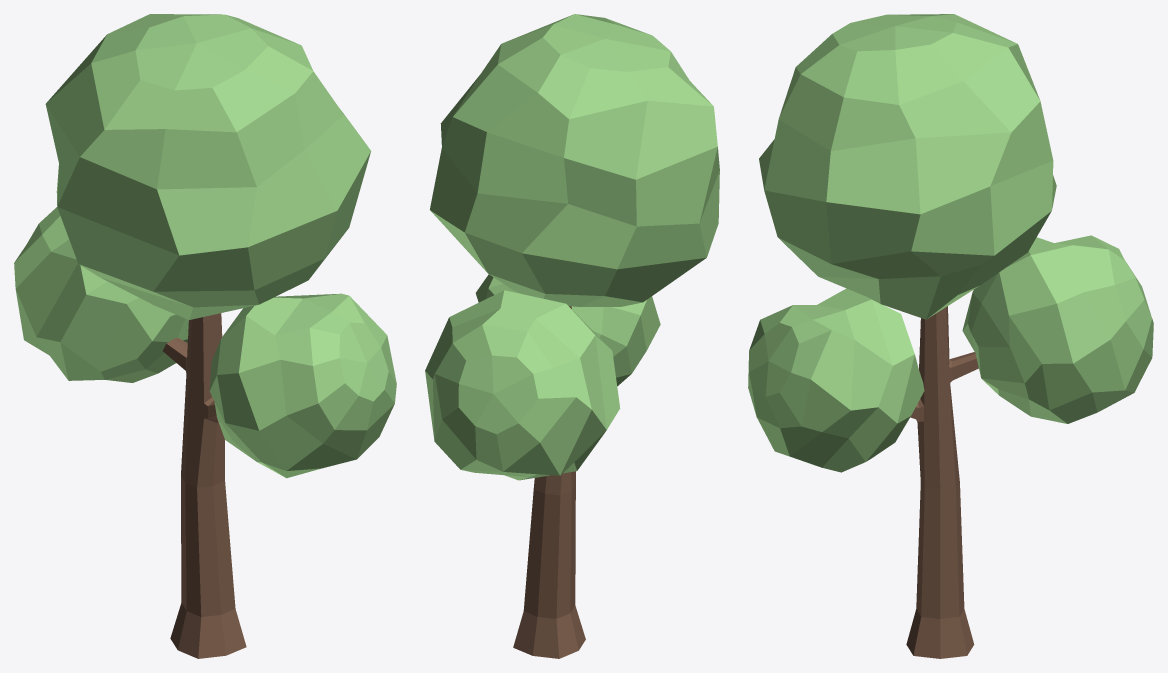
Rendered from Leaves_02.fbx.
3 views of the same model, side by side, from view 1: azimuth 30°, elevation 25°; view 2: azimuth 150°, elevation 25°; view 3: azimuth 270°, elevation 25° (orthographic). The views are drawn at different scales.
Visible parts, largest first — view 1: Leaves_02; view 2: Leaves_02; view 3: Leaves_02.
Part boxes in pixels (x1,y1,x2,y2): Leaves_02: [14, 14, 396, 658]; Leaves_02: [425, 14, 719, 658]; Leaves_02: [748, 14, 1153, 658].
Bounding box in the file's own units: 122 × 264 × 160.
